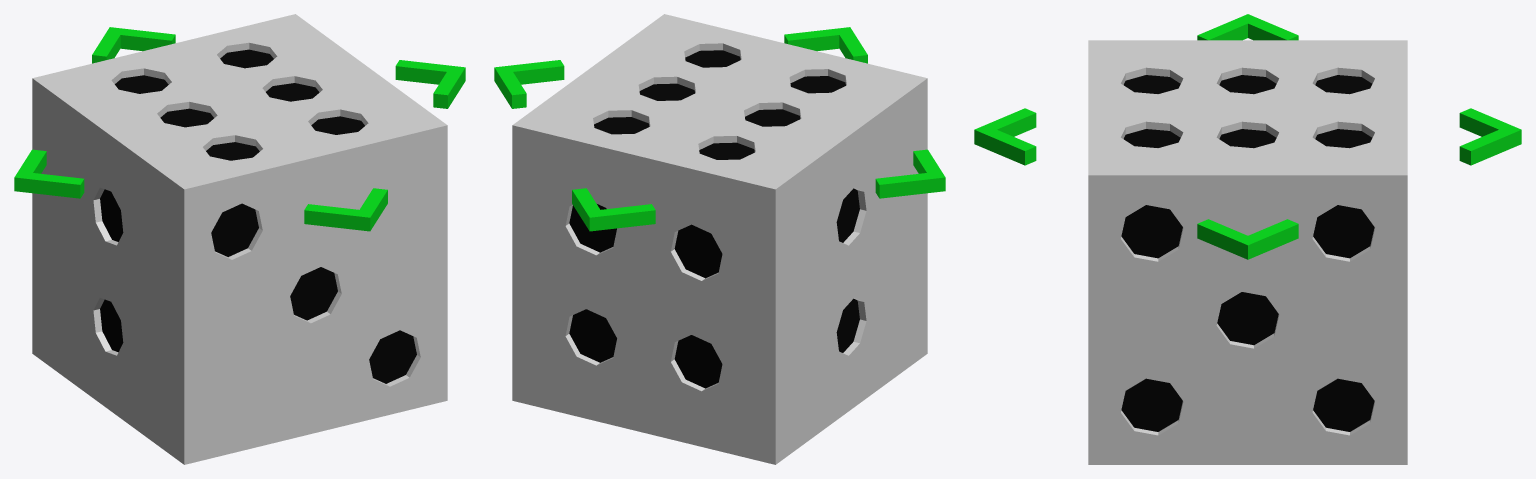
File: kosc.fbx
The picture shows the model from 3 angles, left to right: view 1: azimuth 30°, elevation 25°; view 2: azimuth 150°, elevation 25°; view 3: azimuth 270°, elevation 25°; orthographic projection. The views are drawn at different scales.
Parts seen in each view (by area): view 1: KOSC, DOL, LEWO, PRAWO, GORA; view 2: KOSC, GORA, LEWO, PRAWO, DOL; view 3: KOSC, PRAWO, DOL, GORA, LEWO.
Part boxes in pixels (bbox=[...]): KOSC: bbox=[32, 14, 447, 464]; DOL: bbox=[304, 188, 387, 231]; LEWO: bbox=[14, 149, 84, 198]; PRAWO: bbox=[395, 60, 465, 108]; GORA: bbox=[92, 27, 175, 63]; KOSC: bbox=[512, 14, 927, 464]; GORA: bbox=[572, 188, 655, 231]; LEWO: bbox=[875, 149, 945, 198]; PRAWO: bbox=[494, 60, 564, 108]; DOL: bbox=[784, 27, 867, 63]; KOSC: bbox=[1088, 40, 1407, 464]; PRAWO: bbox=[1197, 219, 1298, 259]; DOL: bbox=[974, 108, 1036, 165]; GORA: bbox=[1459, 108, 1521, 165]; LEWO: bbox=[1197, 14, 1298, 40].
Bounding box in the file's own units: 343 × 200 × 343.
